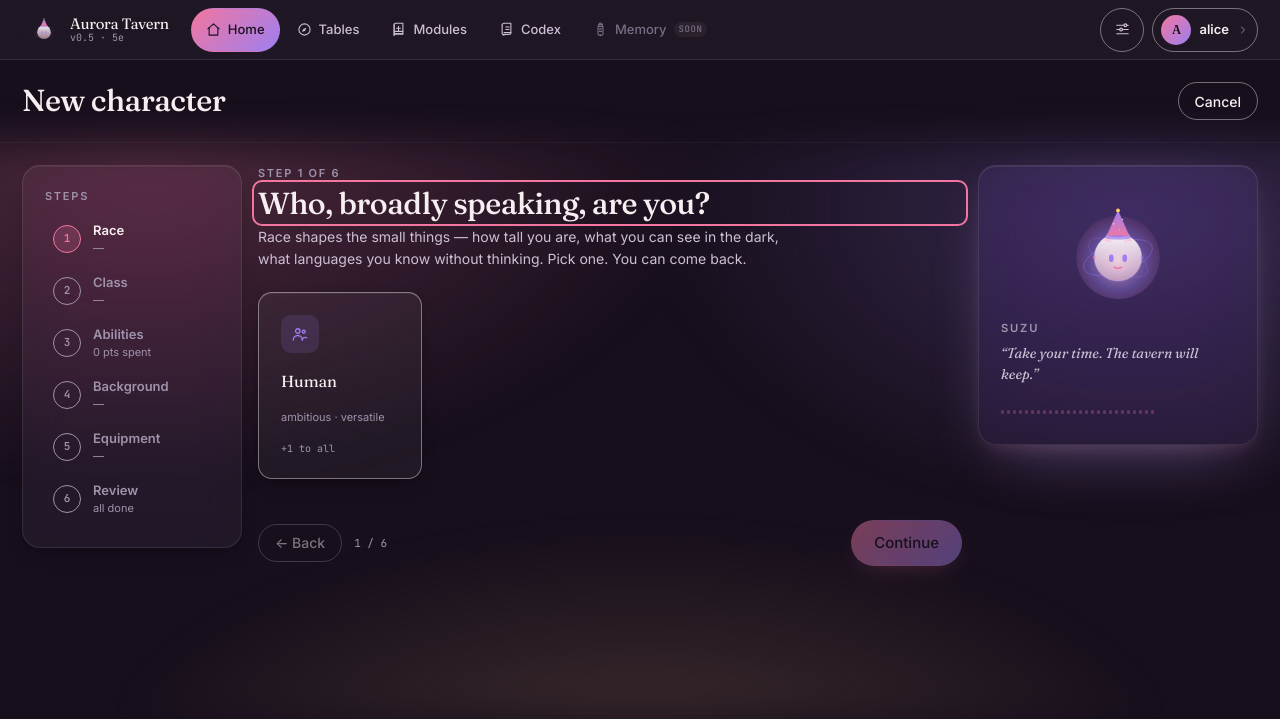
Test case: Subclass step presence (TAV-WIZARD-HOMEBREW-CASTERS) › is ABSENT for a class without subclassLevel:1 (fighter) — byte-identical to before
Click the radio button labelled "Human ambitious · versatile +1 to all" at (340, 386), box [258,292,422,479]
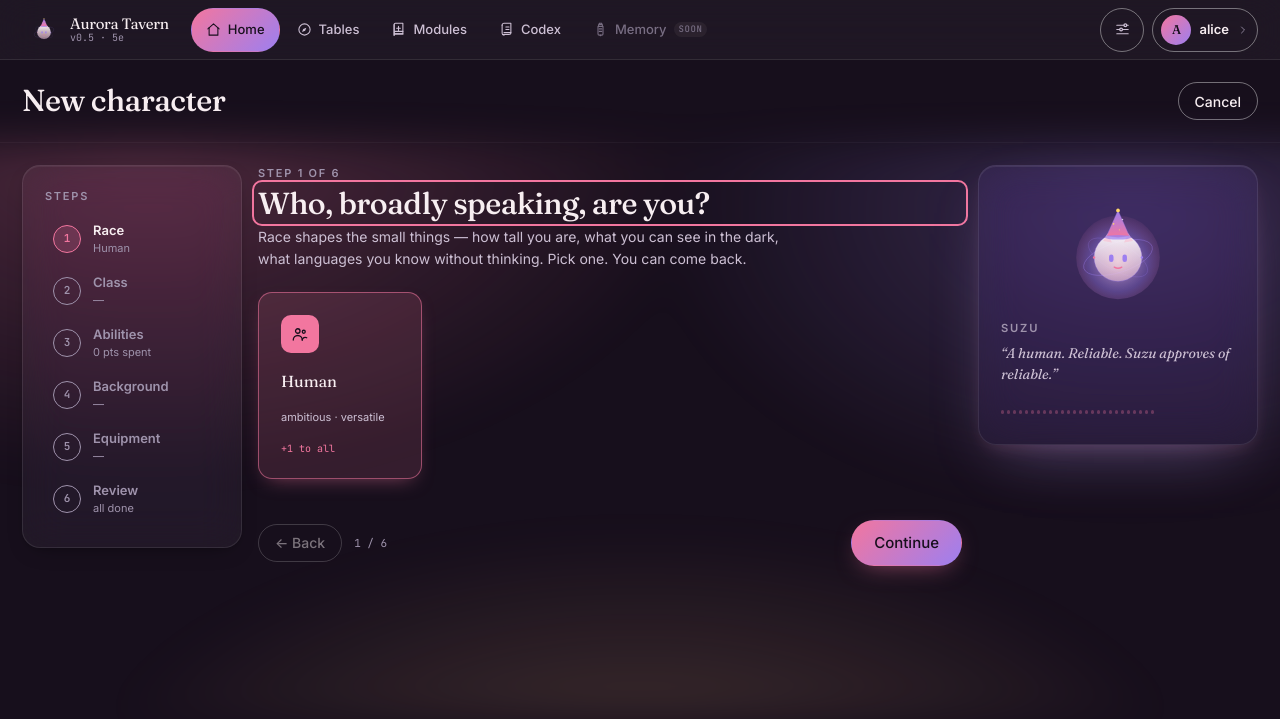
Click the button "Continue" at (907, 543), box [851,520,962,566]
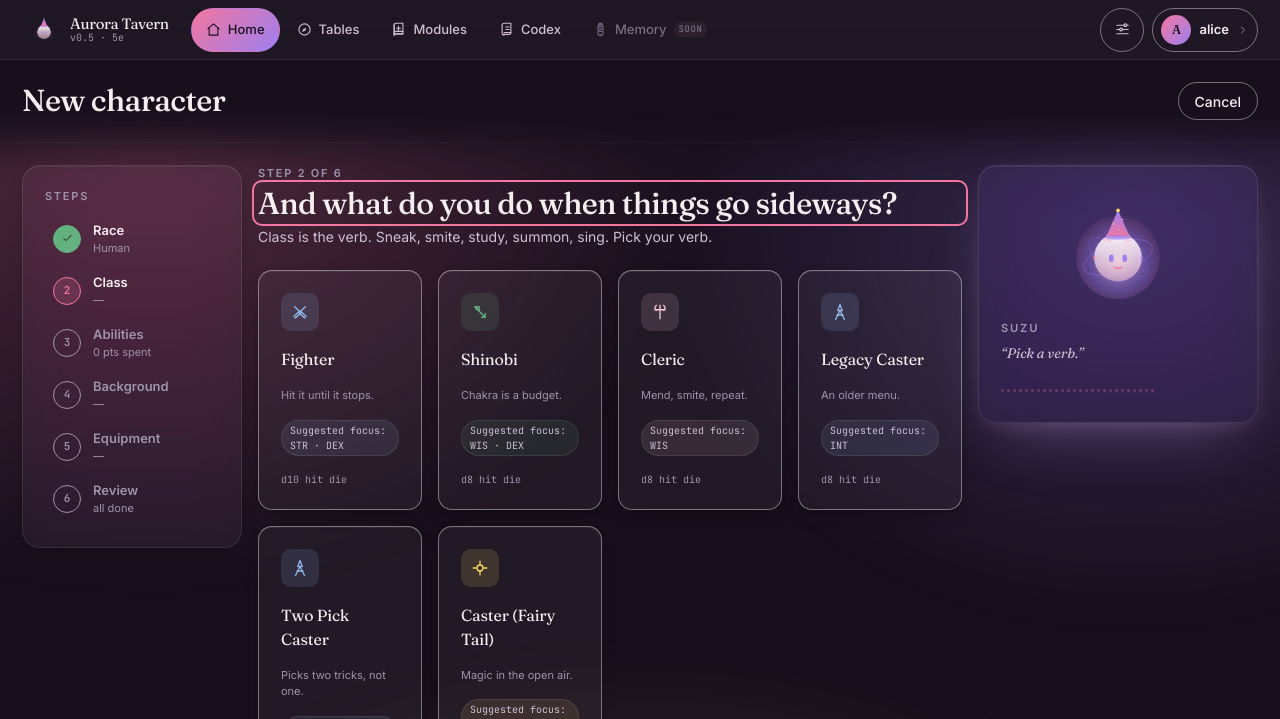
Click the radio button labelled "Fighter" at (340, 390), box [258,270,422,510]
(page scrolled)
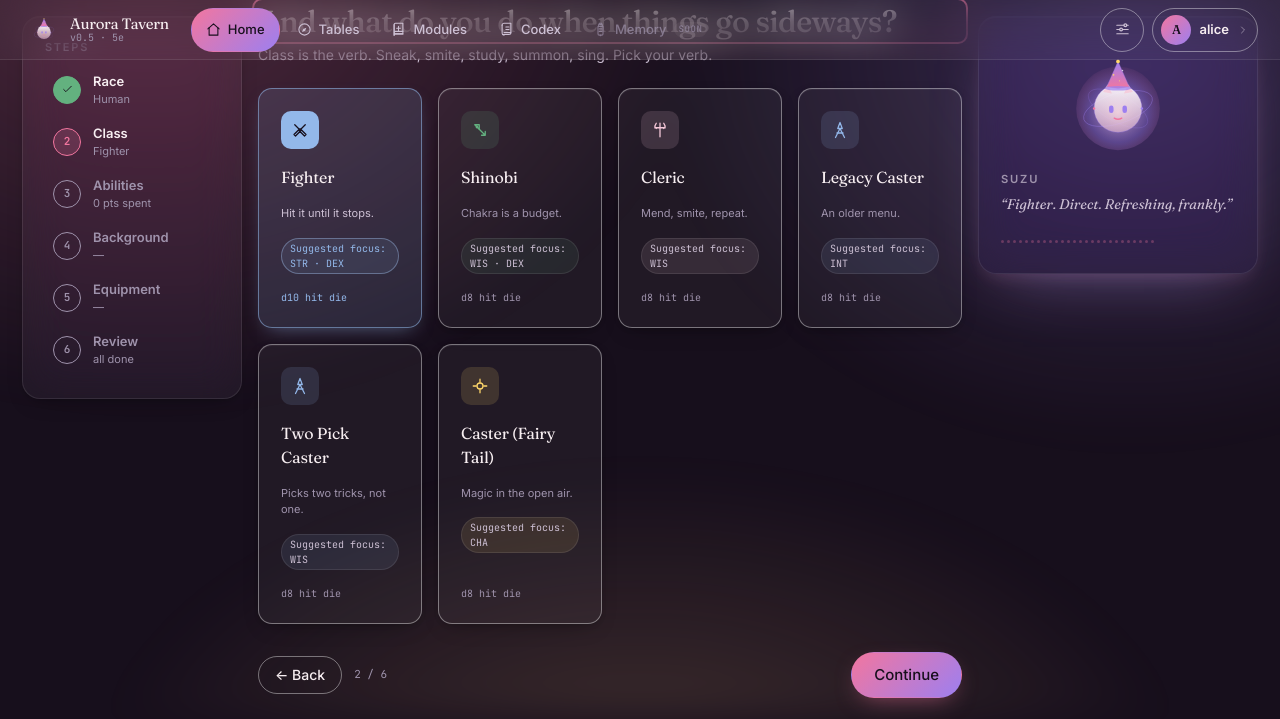
Click the button "Continue" at (907, 675), box [851,652,962,698]
(page scrolled)
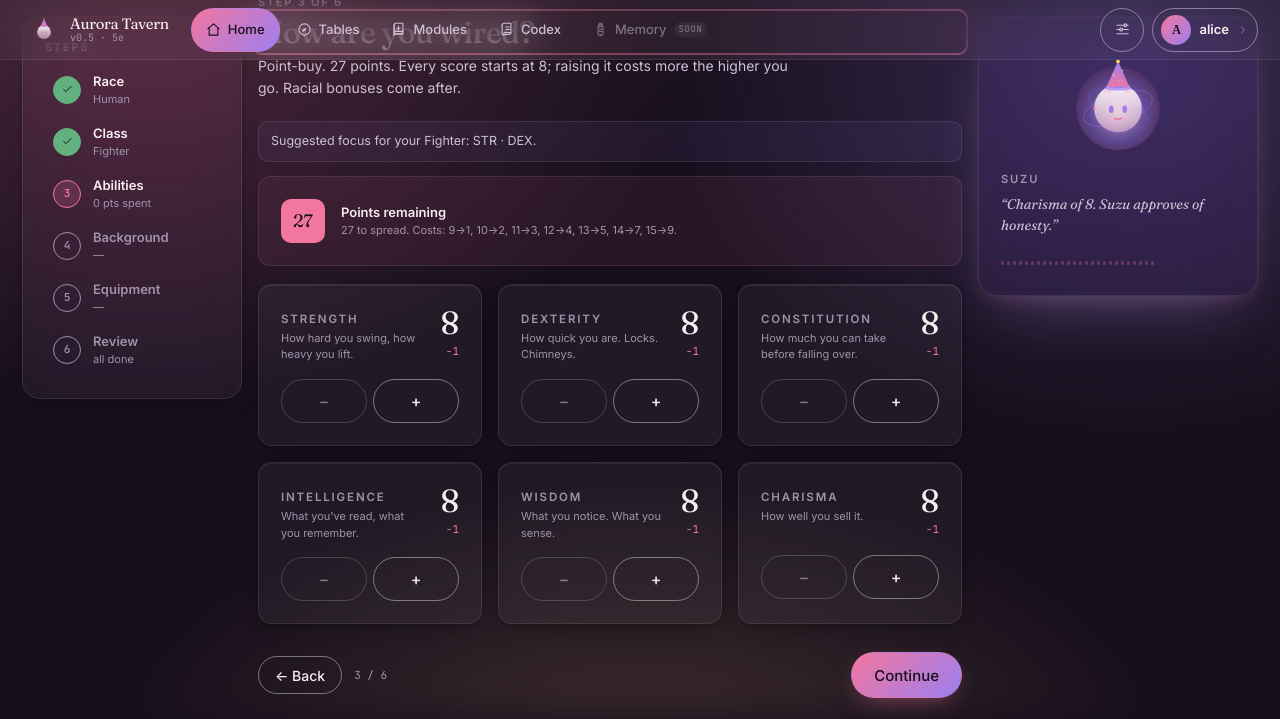
Expected: the heading "How are you wired?" is shown, [258,12,534,50]
